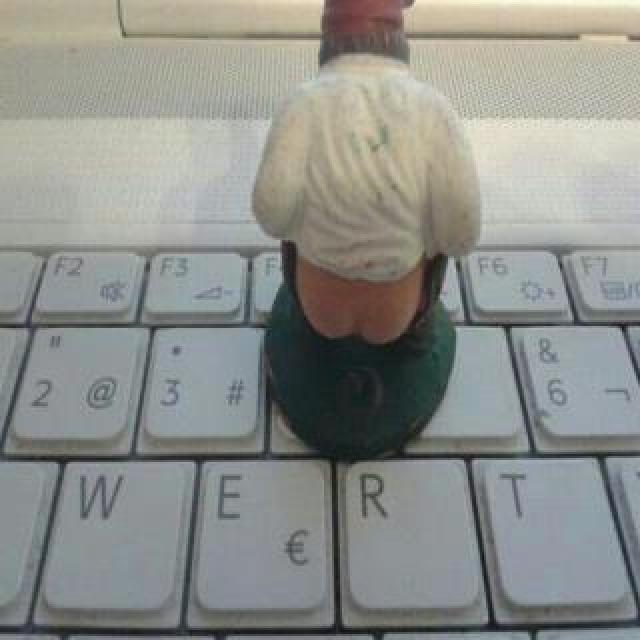laptop_computer: (16, 20, 640, 640)
